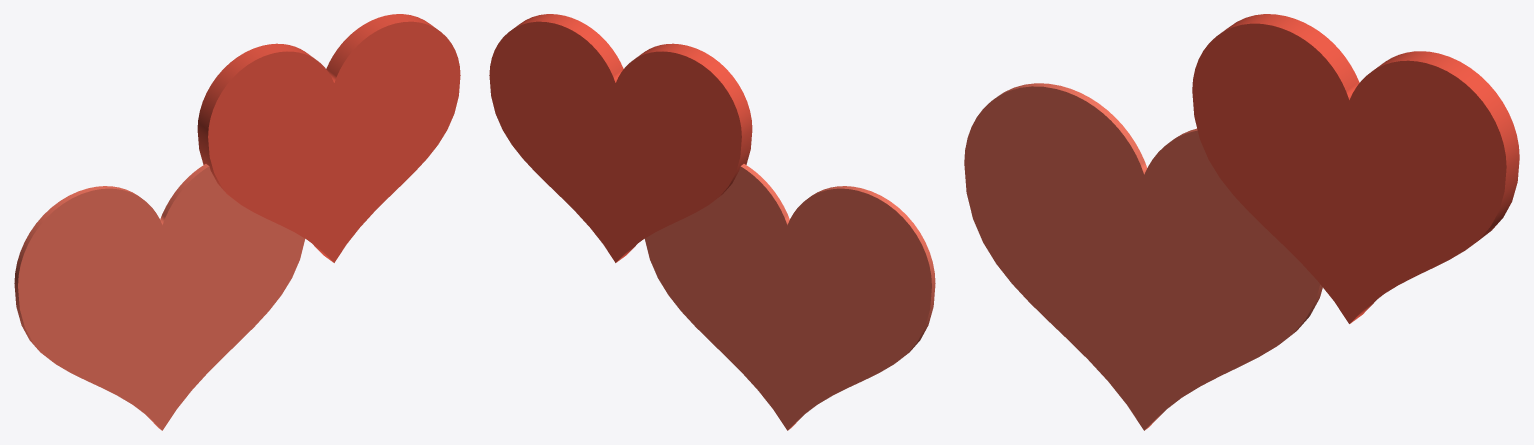
File: heart.glb
3 renders of one model, left to right at view 1: azimuth 30°, elevation 25°; view 2: azimuth 150°, elevation 25°; view 3: azimuth 330°, elevation 25°, orthographic. The views are drawn at different scales.
Visible parts, largest first — view 1: Curve.001, Curve; view 2: Curve.001, Curve; view 3: Curve.001, Curve.
Boxes of the visible parts, left/top/right/bottom form: Curve.001: left=14, top=164, right=304, bottom=430; Curve: left=197, top=14, right=460, bottom=262; Curve.001: left=645, top=164, right=935, bottom=430; Curve: left=489, top=14, right=752, bottom=262; Curve.001: left=964, top=83, right=1322, bottom=430; Curve: left=1192, top=14, right=1519, bottom=323.
Bounding box in the file's own units: 2.73 × 2.11 × 0.1135.
